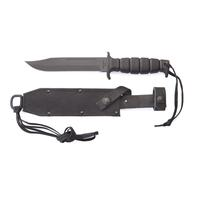knife: (20, 48, 176, 83)
